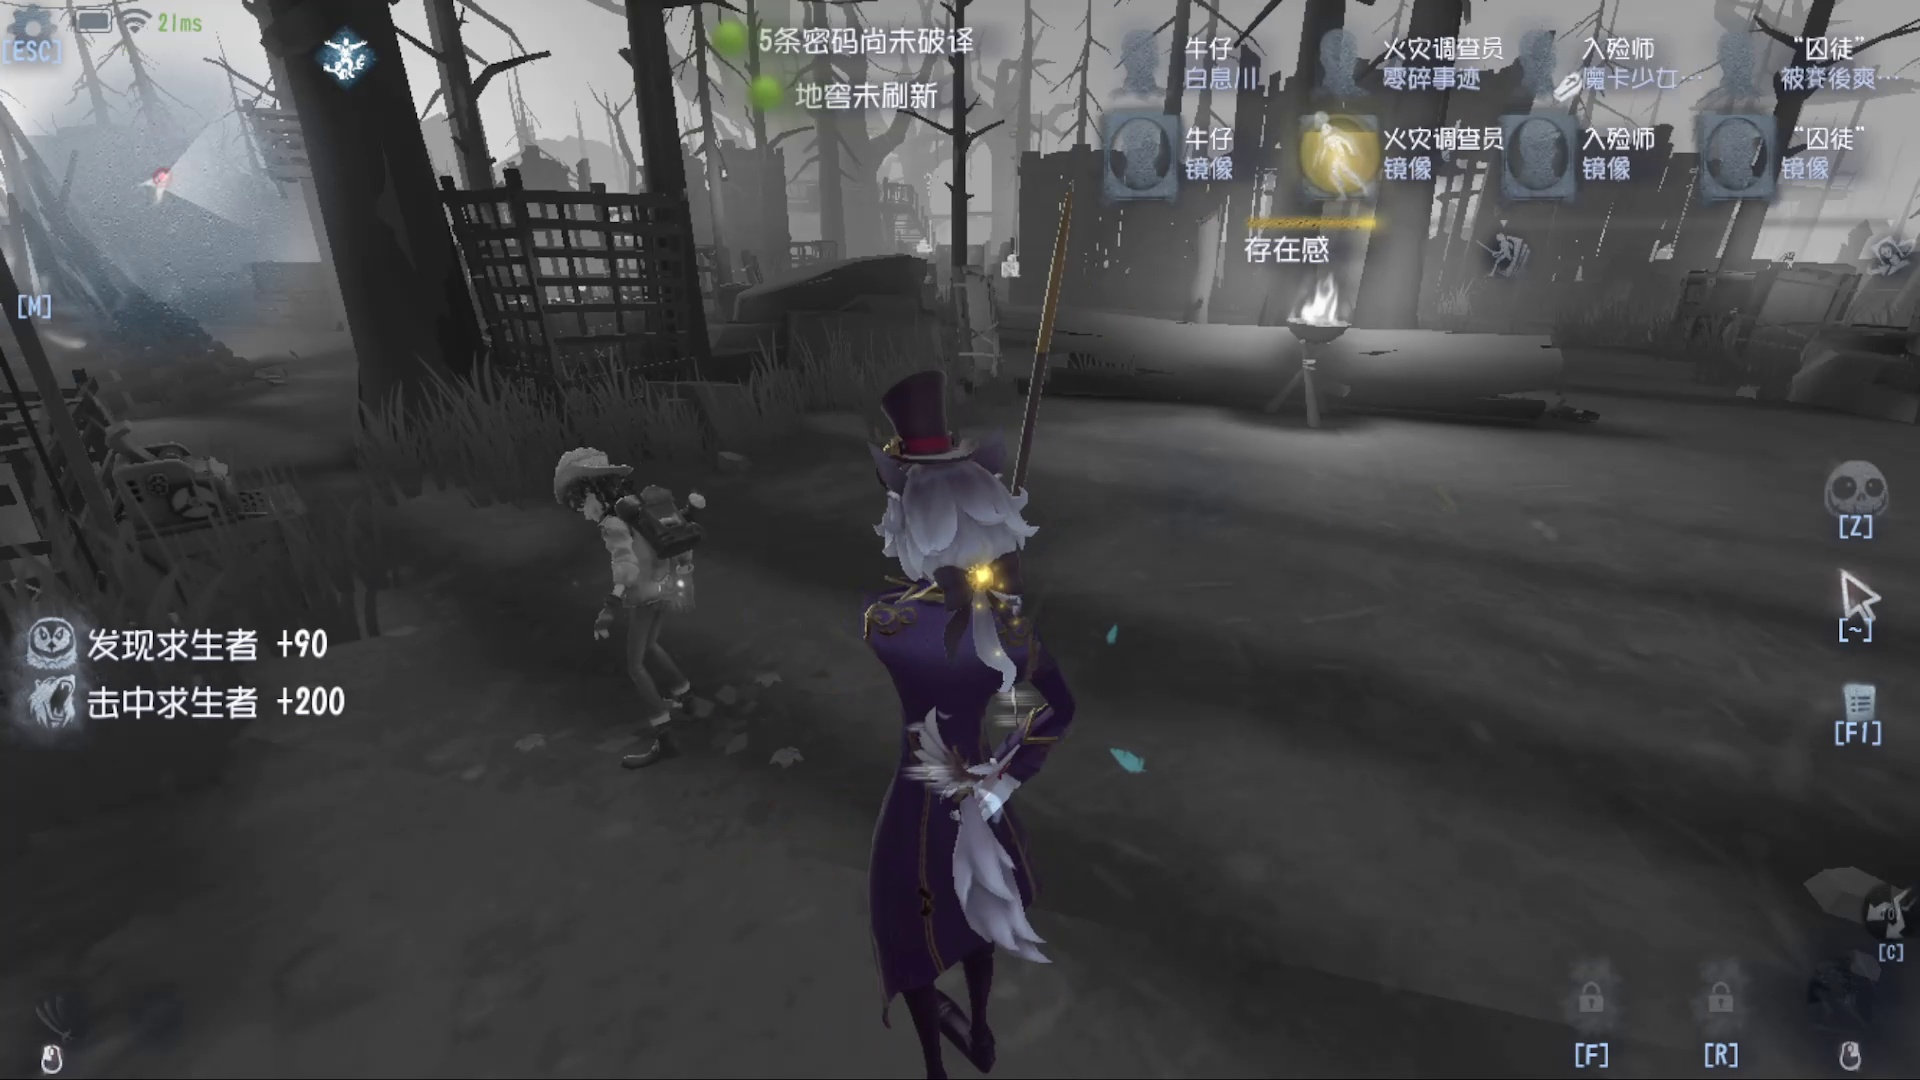求生者: (47, 377, 375, 644), (522, 431, 702, 789)
